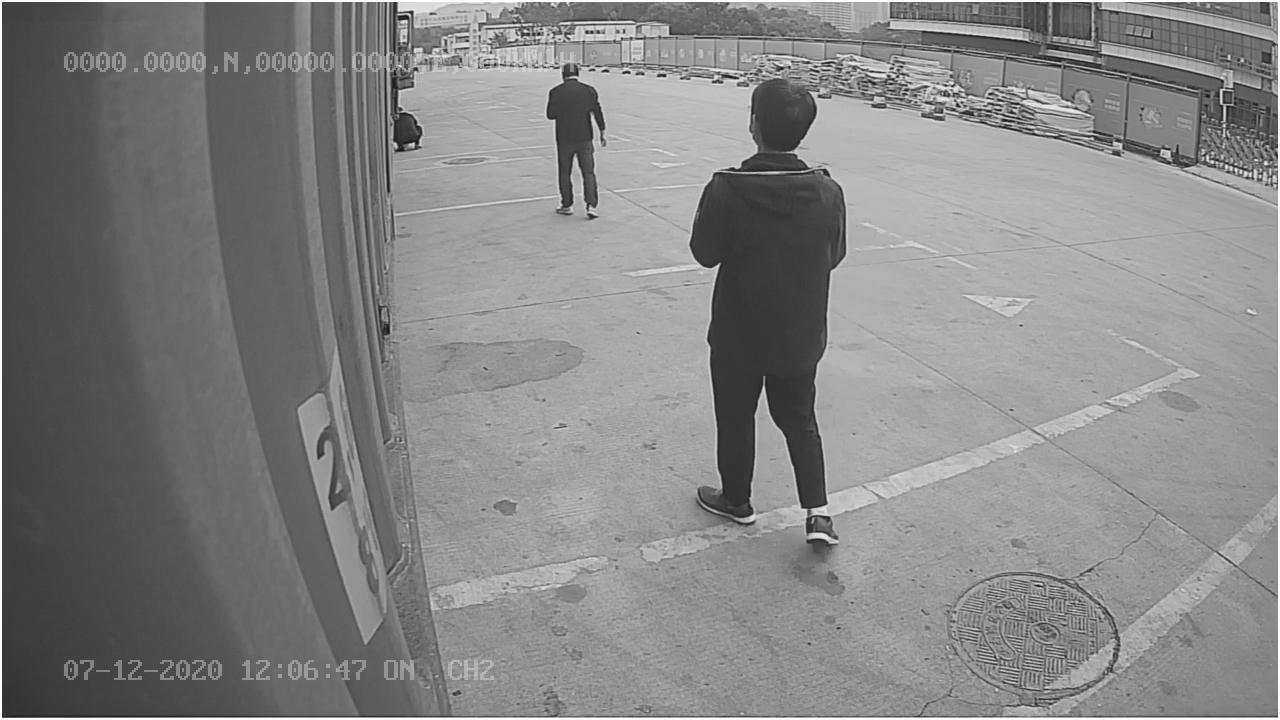person: (672, 80, 847, 548)
